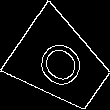O_SE: (29, 31, 92, 96)
